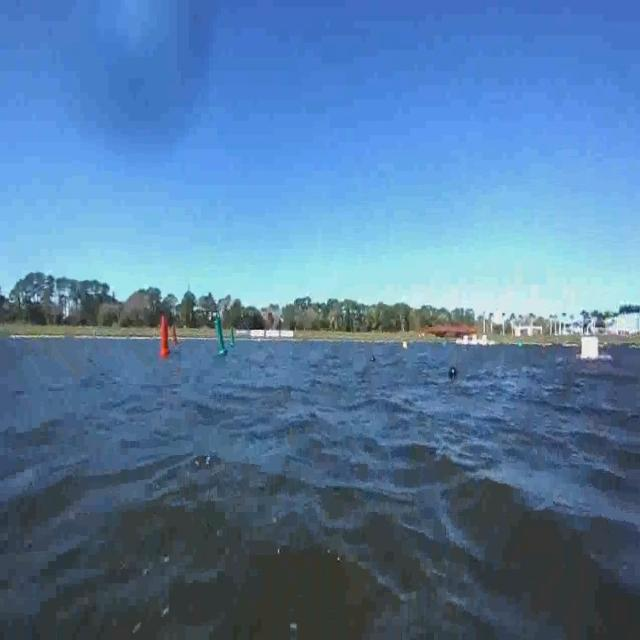black-buoy: (447, 362, 457, 378), (372, 354, 376, 363)
green-buoy: (516, 342, 522, 351)
green-column-buoy: (214, 320, 229, 358), (228, 328, 236, 348)
red-column-buoy: (157, 316, 170, 357), (171, 324, 180, 346)
yellow-buoy: (401, 340, 408, 352)
